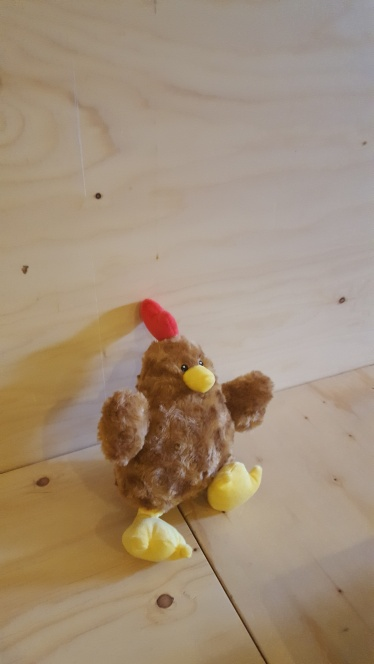chicken_front: (97, 298, 276, 562)
